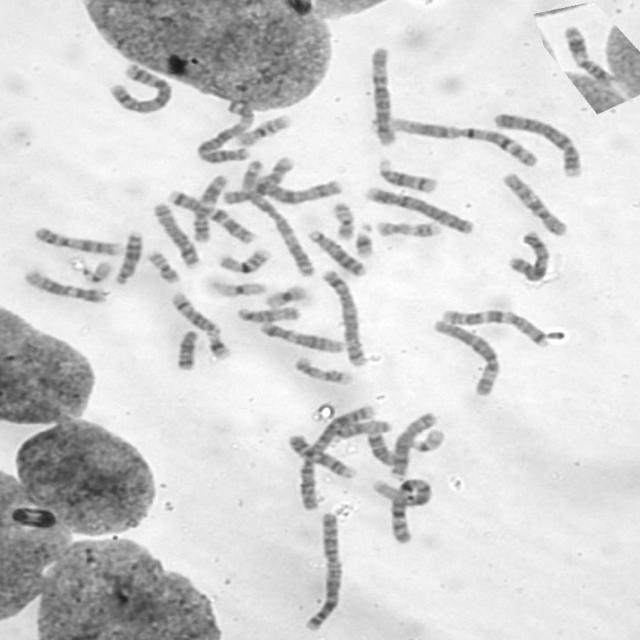A1: (375, 112, 541, 168), (368, 473, 436, 545)
A2: (292, 400, 379, 512), (299, 506, 346, 634)
A3: (240, 155, 316, 278), (193, 98, 255, 165)
B4: (490, 108, 586, 178), (361, 182, 477, 235)
B5: (318, 265, 370, 368), (103, 59, 174, 115)
C10: (497, 168, 571, 238), (219, 152, 296, 206)
C11: (559, 21, 615, 86), (188, 171, 231, 244)
C12: (20, 266, 109, 304), (255, 318, 348, 354)
C6: (428, 316, 504, 397), (366, 41, 399, 148)
C7: (162, 186, 256, 245), (434, 304, 552, 348)
C8: (385, 408, 440, 478), (148, 199, 202, 269)
C9: (283, 430, 359, 480), (29, 222, 126, 256)
D13: (303, 225, 369, 278), (110, 226, 145, 286)
D14: (374, 154, 440, 194), (167, 288, 221, 335)
D15: (332, 416, 394, 441), (232, 302, 303, 323)
E16: (232, 110, 294, 147), (214, 243, 274, 274)
E17: (290, 352, 356, 387), (372, 216, 444, 238)
E18: (172, 325, 201, 372), (365, 428, 399, 466)
F19: (261, 280, 311, 310), (206, 277, 270, 298)
F20: (142, 247, 183, 284), (328, 197, 357, 241)
G21: (202, 326, 233, 361), (352, 218, 376, 259)
G22: (406, 424, 447, 453), (77, 257, 115, 284)
X: (240, 161, 344, 204), (503, 226, 553, 283)
